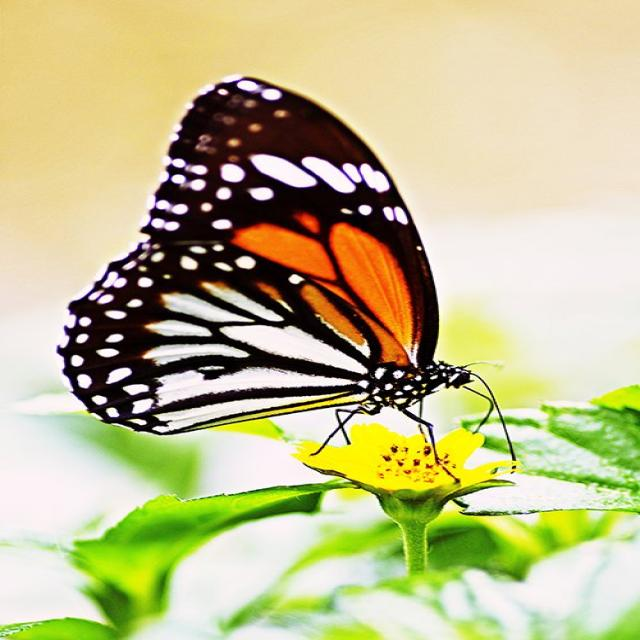butterfly: (97, 87, 478, 424)
